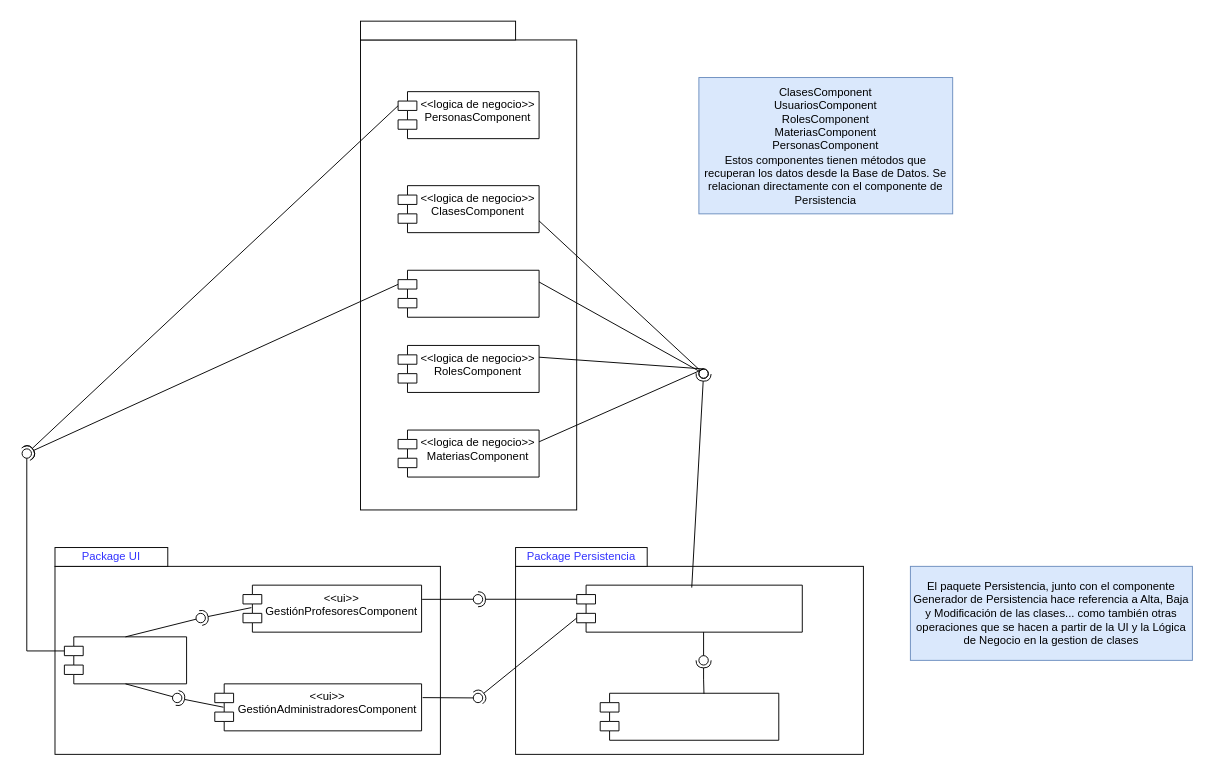
Image size: 1209x771. Some labels were removed from this diagram. Here are the shapes that lost their labels. From the top down, the centre of each, then its label:
pixel 438 30: Package Lógica de Negocio
pixel 468 293: <<logica de negocio>> UsuariosComponent
pixel 689 608: <<persistencia>> GeneradorPersistenciaComponent
pixel 125 660: <<ui>> LoginComponent
pixel 689 716: <<persistencia>> SGBDComponent
